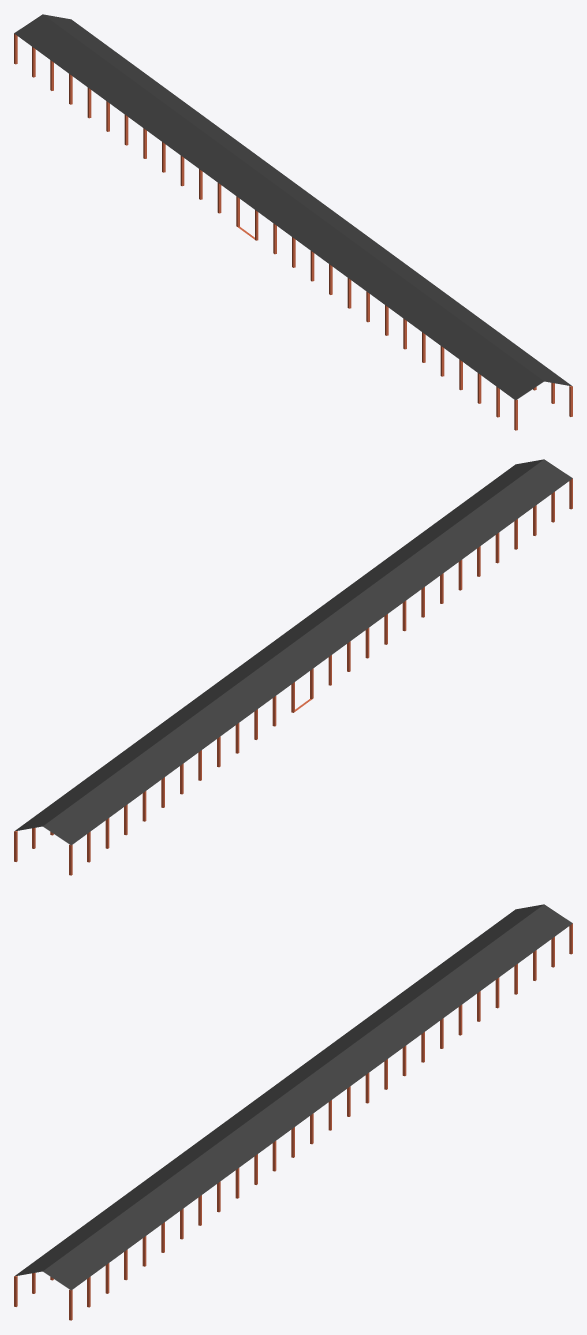
The model's file is passagem_coberta.glb.
3 views of the same model, one above another, from view 1: azimuth 30°, elevation 25°; view 2: azimuth 150°, elevation 25°; view 3: azimuth 330°, elevation 25° (orthographic).
Visible parts, largest first — view 1: Passagem Coberta; view 2: Passagem Coberta; view 3: Passagem Coberta.
Part boxes in pixels (box(x1,y1,x2,y2)): Passagem Coberta: box(14, 14, 572, 430); Passagem Coberta: box(14, 459, 572, 875); Passagem Coberta: box(14, 904, 572, 1320).
Size of the model in its own units: 4.98 by 3.5 by 75.42.
